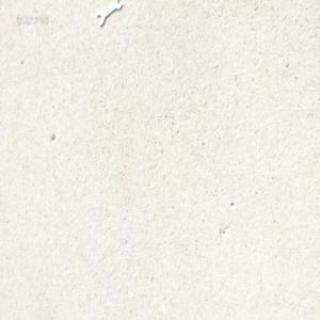Wrenchtrack_idkeyframe: (96, 1, 120, 29)
